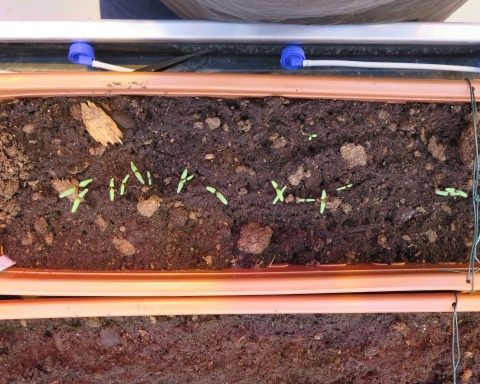crop: (56, 177, 94, 196), (174, 167, 195, 197), (204, 185, 228, 206), (71, 188, 88, 214), (270, 181, 287, 205), (128, 162, 144, 186), (117, 174, 131, 197), (318, 187, 328, 215), (446, 187, 468, 198), (107, 178, 116, 201), (335, 183, 355, 193), (435, 190, 459, 197), (298, 197, 315, 203), (146, 170, 152, 185)
weed: (306, 132, 319, 142)
